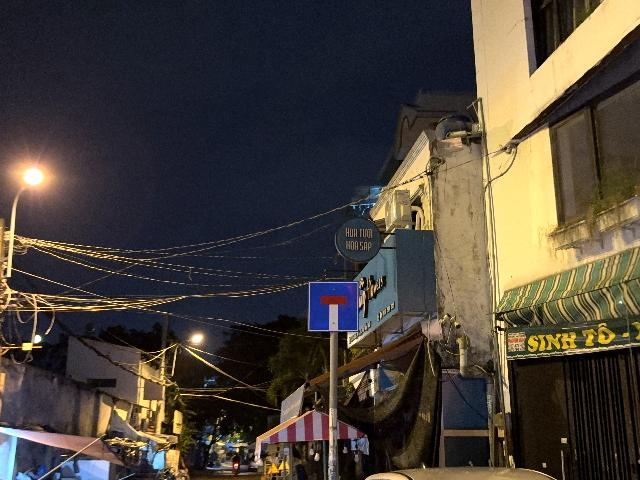duong-cut: (308, 282, 359, 332)
